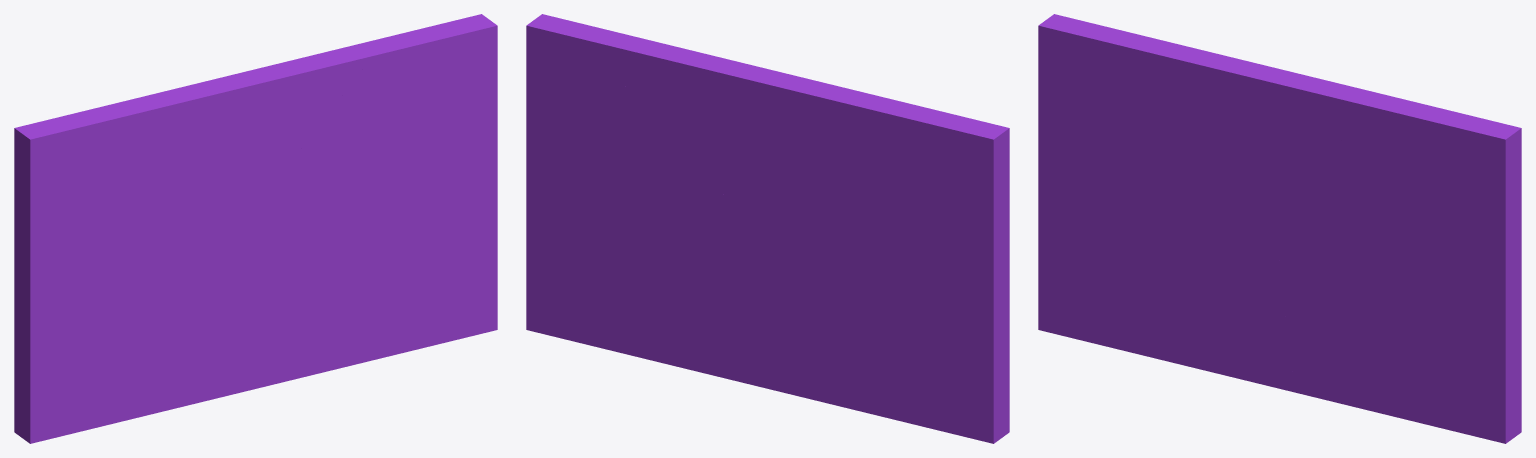
Rendered from Barrier_61_chunks.fbx.
3 views of the same model, side by side, from view 1: azimuth 30°, elevation 25°; view 2: azimuth 150°, elevation 25°; view 3: azimuth 330°, elevation 25° (orthographic).
Parts seen in each view (by area): view 1: Barrier_61_0, Barrier_61_2, Barrier_61_3, Barrier_61_1, Barrier_61_6, Barrier_61_4, Barrier_61_5; view 2: Barrier_61_2, Barrier_61_0, Barrier_61_3, Barrier_61_6, Barrier_61_4, Barrier_61_1; view 3: Barrier_61_2, Barrier_61_0, Barrier_61_1, Barrier_61_3, Barrier_61_6, Barrier_61_4, Barrier_61_5.
Part boxes in pixels (left/top/right/bottom): Barrier_61_0: left=14, top=201, right=286, bottom=443; Barrier_61_2: left=271, top=14, right=497, bottom=381; Barrier_61_3: left=14, top=90, right=198, bottom=218; Barrier_61_1: left=241, top=23, right=497, bottom=255; Barrier_61_6: left=170, top=28, right=425, bottom=141; Barrier_61_4: left=176, top=132, right=313, bottom=226; Barrier_61_5: left=180, top=96, right=257, bottom=176; Barrier_61_2: left=526, top=16, right=763, bottom=383; Barrier_61_0: left=746, top=190, right=1009, bottom=443; Barrier_61_3: left=810, top=91, right=1009, bottom=229; Barrier_61_6: left=583, top=39, right=846, bottom=155; Barrier_61_4: left=666, top=131, right=849, bottom=239; Barrier_61_1: left=539, top=14, right=665, bottom=44; Barrier_61_2: left=1279, top=114, right=1521, bottom=443; Barrier_61_0: left=1038, top=88, right=1294, bottom=392; Barrier_61_1: left=1249, top=109, right=1508, bottom=258; Barrier_61_3: left=1038, top=14, right=1209, bottom=175; Barrier_61_6: left=1201, top=52, right=1463, bottom=155; Barrier_61_4: left=1185, top=139, right=1321, bottom=214; Barrier_61_5: left=1188, top=61, right=1266, bottom=145.
Size of the model in its own units: 462 by 288 by 27.2.
